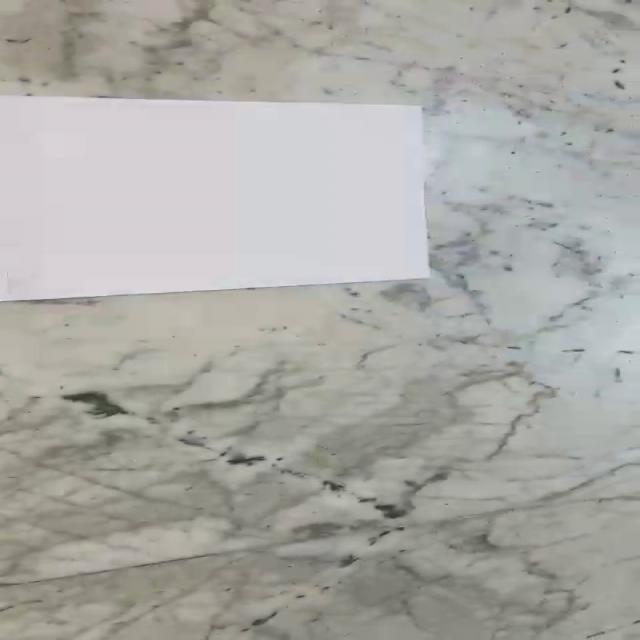road: (0, 94, 431, 303)
